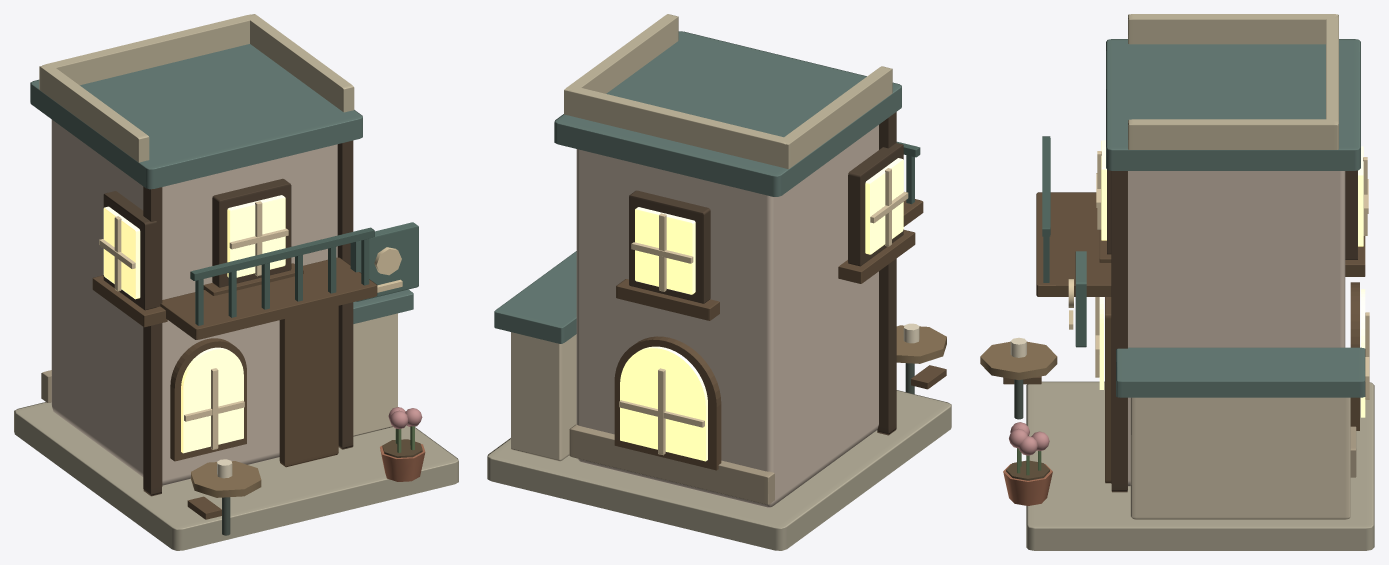
Rendered from cafe-1.glb.
The picture shows the model from 3 angles, left to right: view 1: azimuth 30°, elevation 25°; view 2: azimuth 150°, elevation 25°; view 3: azimuth 270°, elevation 25°; orthographic projection. The views are drawn at different scales.
Visible parts, largest first — view 1: cafe-1-0; view 2: cafe-1-0; view 3: cafe-1-0.
Boxes of the visible parts, x1,y1,x2,y2 form: cafe-1-0: (14,14,458,550); cafe-1-0: (487,14,951,550); cafe-1-0: (980,14,1374,550).
Bounding box in the file's own units: 1.9 × 2.38 × 2.15.
